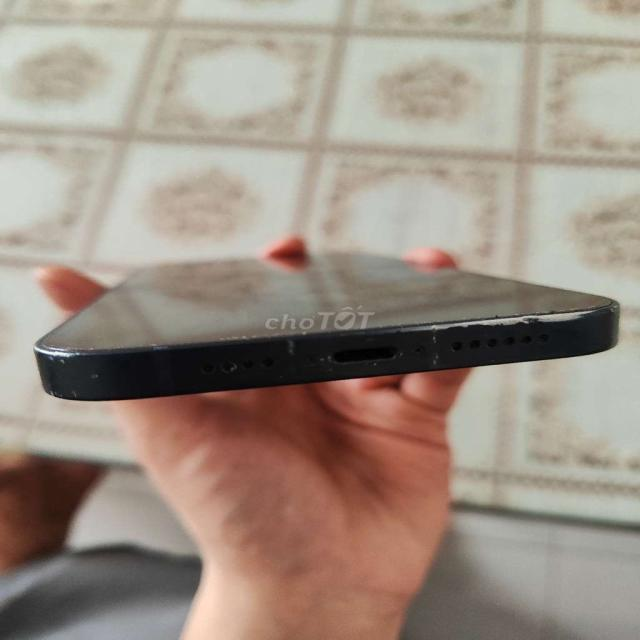gen_14: (33, 249, 640, 409)
scratch: (41, 332, 304, 359), (370, 301, 568, 332), (47, 365, 130, 408)
